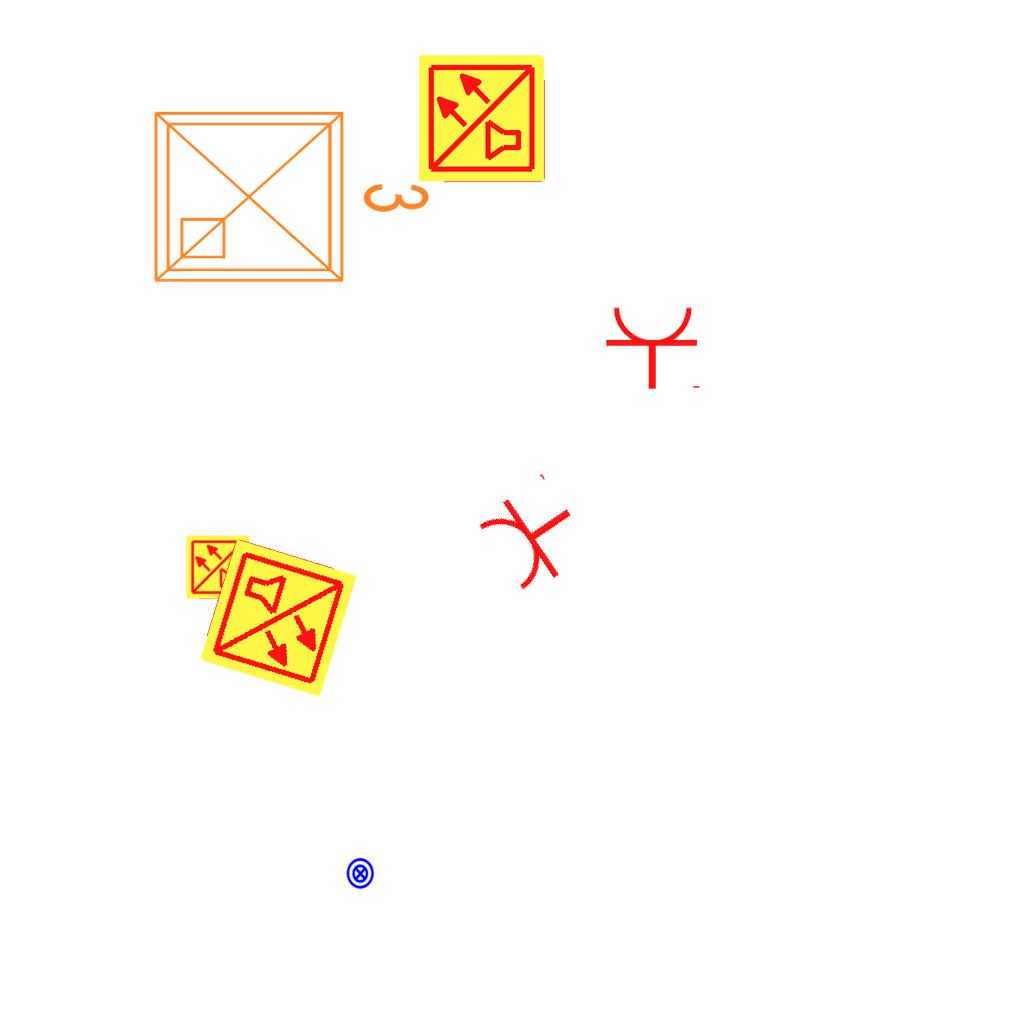Einbaudownlights_LED_Konferenzraeume: (140, 89, 440, 297)
OKW_Multisensormelder_(Kombination_optischer_Rauch-Kahlenmonoxid_Waerme-Melder): (195, 535, 361, 701), (416, 52, 548, 184), (185, 534, 251, 600)
Schukosteckdose_einfach: (469, 468, 598, 600), (604, 304, 704, 391)
Taster_beleuchtet: (344, 857, 377, 890)
